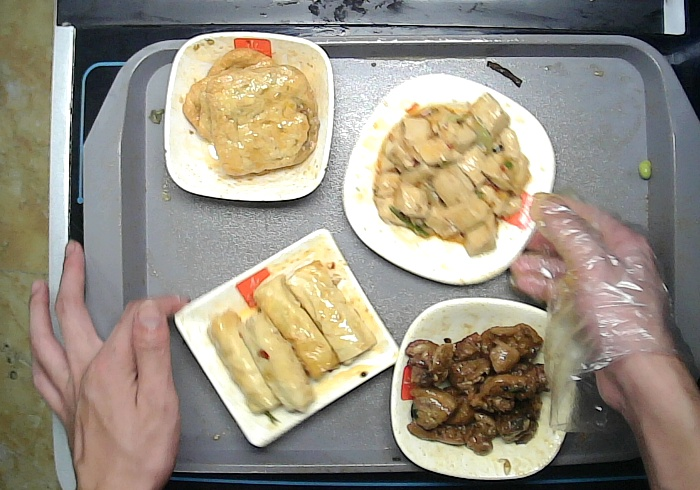SHKJ-Bai_Se_Cai_Die: (391, 297, 575, 480)
SHKJ-Bai_Se_Si_Fang_Cai_Die: (343, 72, 557, 284)
SHKJ-Bai_Se_Xiao_Fang_Die: (163, 31, 335, 202)
SHKJ-Si_Fang_Min: (175, 229, 401, 446)
